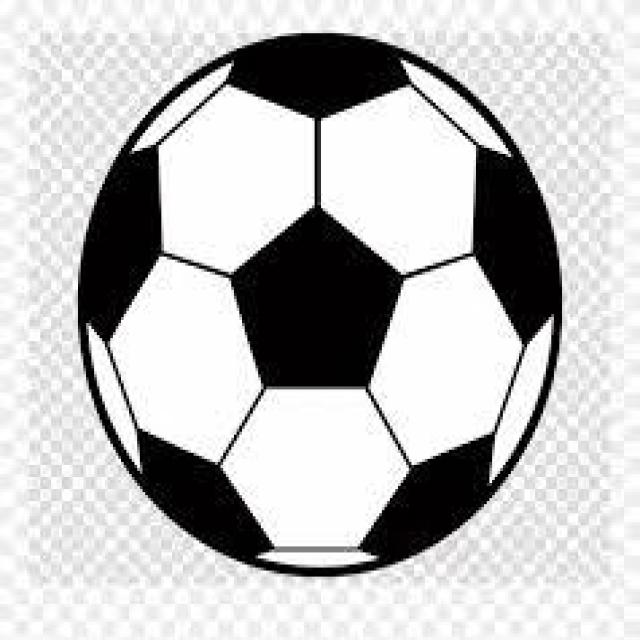Soccer Ball: (83, 30, 565, 580)
